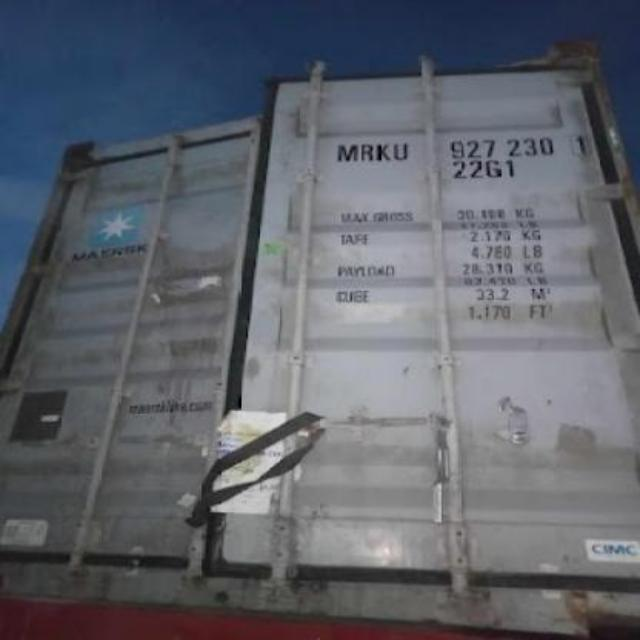0: (540, 134, 556, 156)
1: (574, 134, 590, 154)
2: (464, 138, 482, 158), (506, 138, 524, 156)
3: (524, 138, 538, 156)
7: (482, 138, 500, 158)
9: (448, 141, 466, 161)
K: (374, 143, 392, 161)
M: (334, 142, 360, 164)
R: (358, 143, 374, 161)
U: (392, 142, 410, 162)
